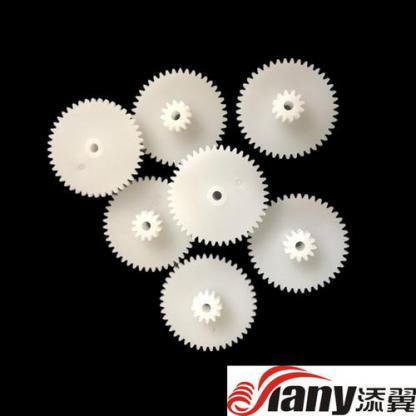FOD: (246, 190, 350, 298), (233, 58, 339, 162), (165, 147, 269, 247), (44, 96, 142, 200), (156, 254, 258, 352), (129, 64, 227, 166), (100, 174, 197, 274)
